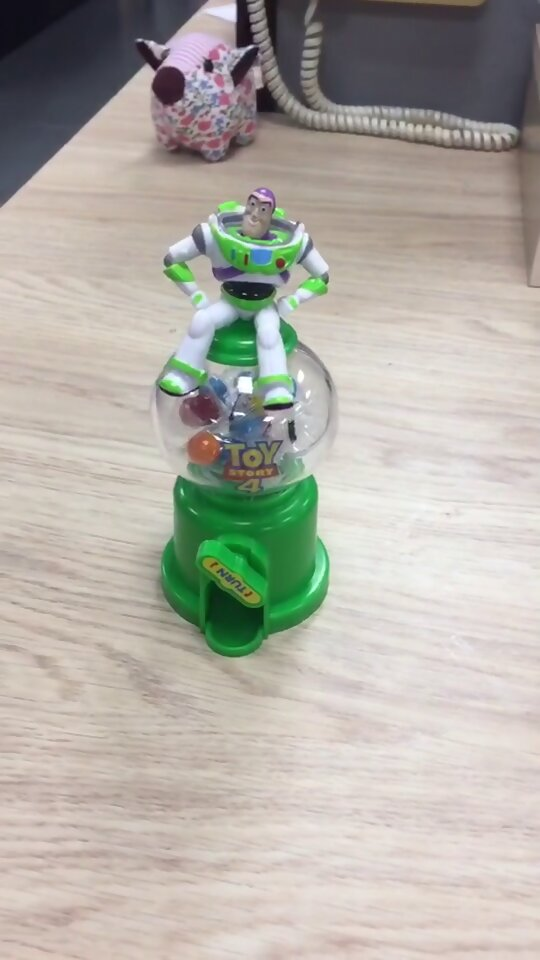buzz: (148, 182, 339, 656)
